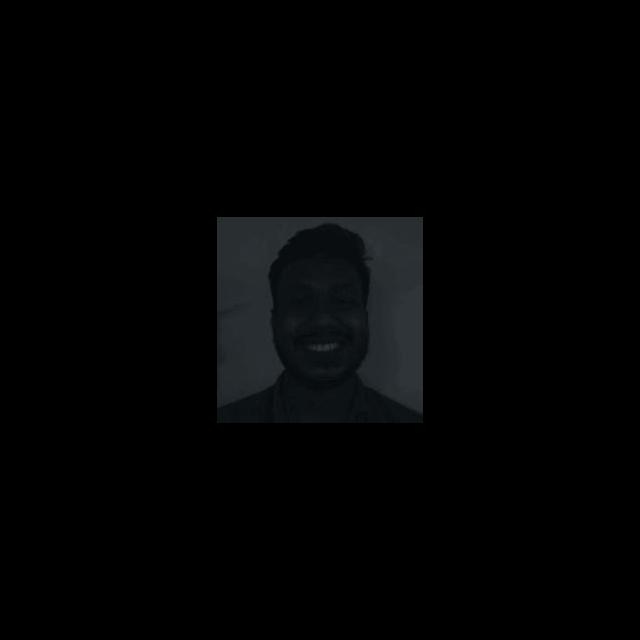Happy: (263, 249, 381, 395)
